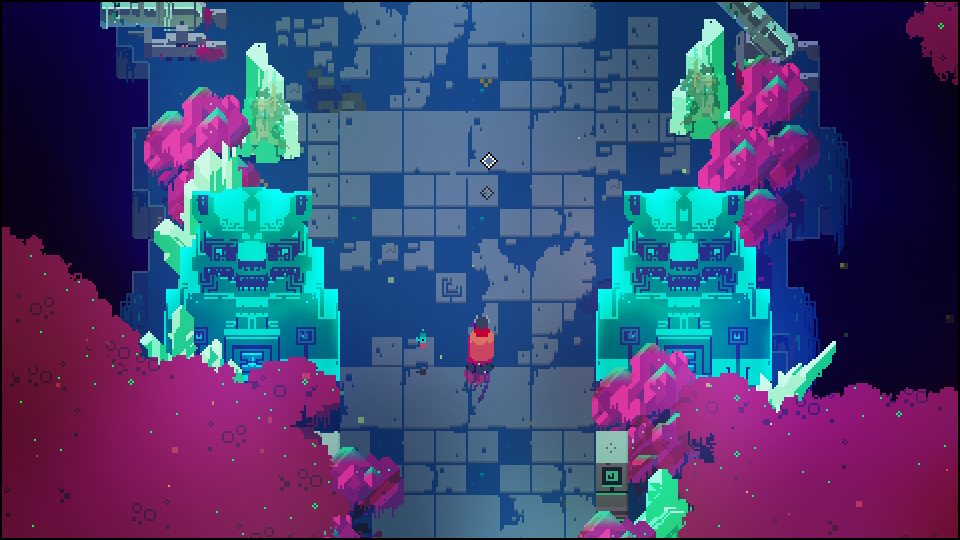player: (464, 311, 496, 369)
